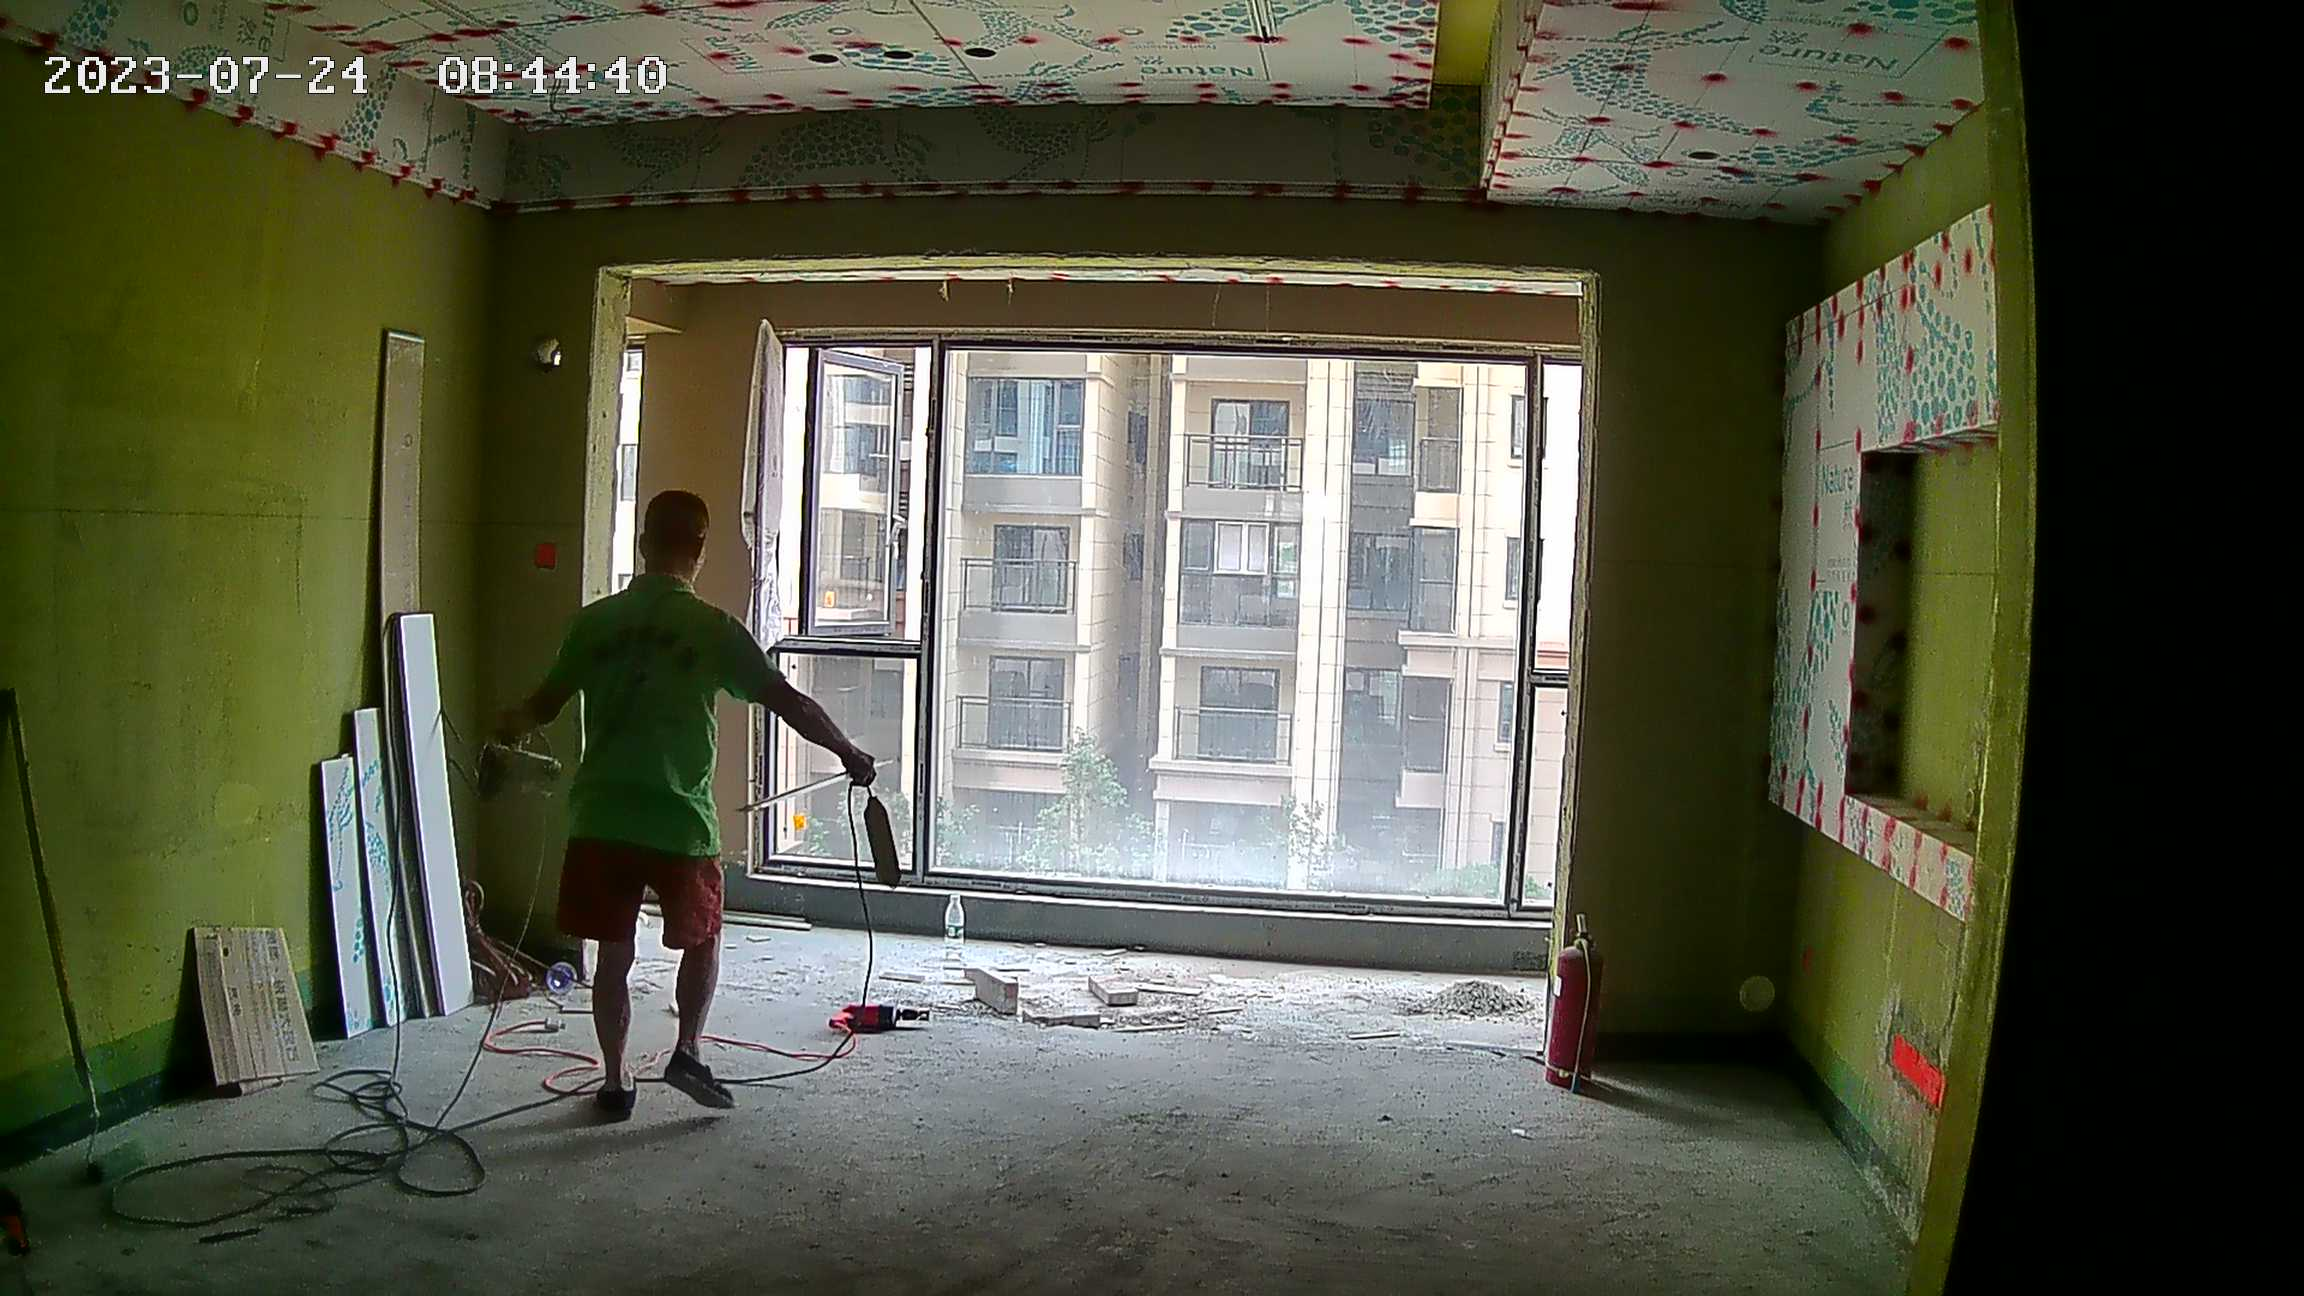people: (496, 491, 881, 1123)
window: (772, 343, 1564, 904)
